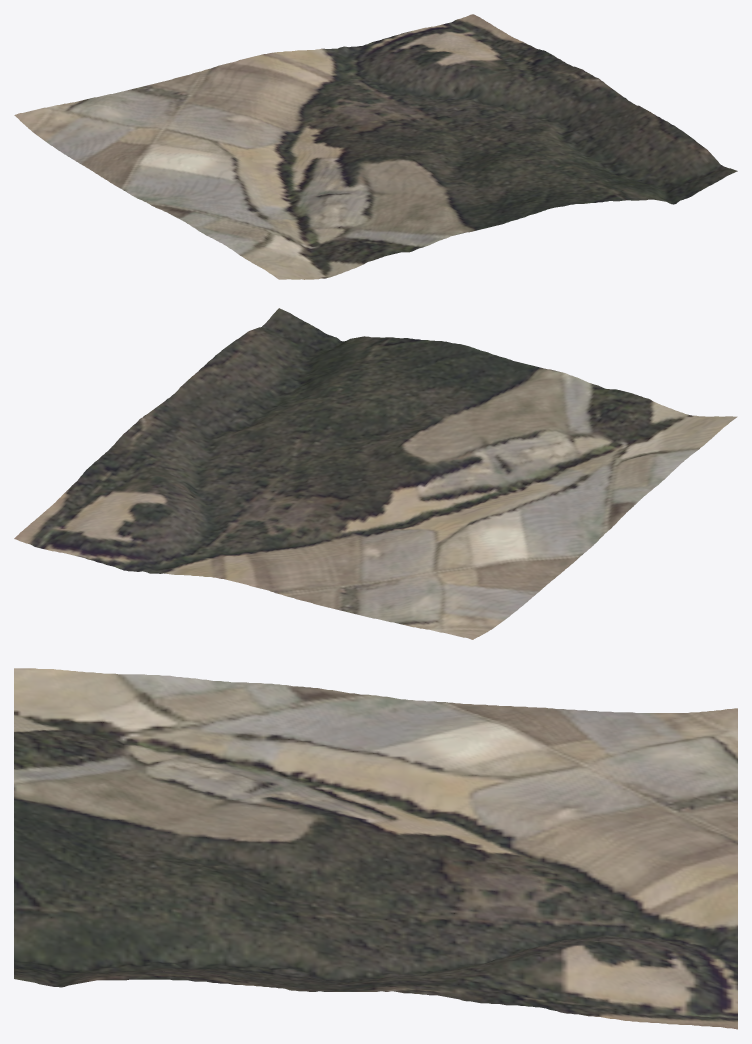
The model's file is tile_4_4.glb.
The picture shows the model from 3 angles, top to bottom: view 1: azimuth 30°, elevation 25°; view 2: azimuth 150°, elevation 25°; view 3: azimuth 270°, elevation 25°; orthographic projection. The views are drawn at different scales.
Visible parts, largest first — view 1: tile_4_4; view 2: tile_4_4; view 3: tile_4_4.
Boxes of the visible parts, x1=… form: tile_4_4: x1=14, y1=14, x2=737, y2=279; tile_4_4: x1=14, y1=308, x2=737, y2=639; tile_4_4: x1=14, y1=668, x2=737, y2=1029.
Size of the model in its own units: 1000 by 104 by 1000.
Materials: 1 (1 with a texture image).
